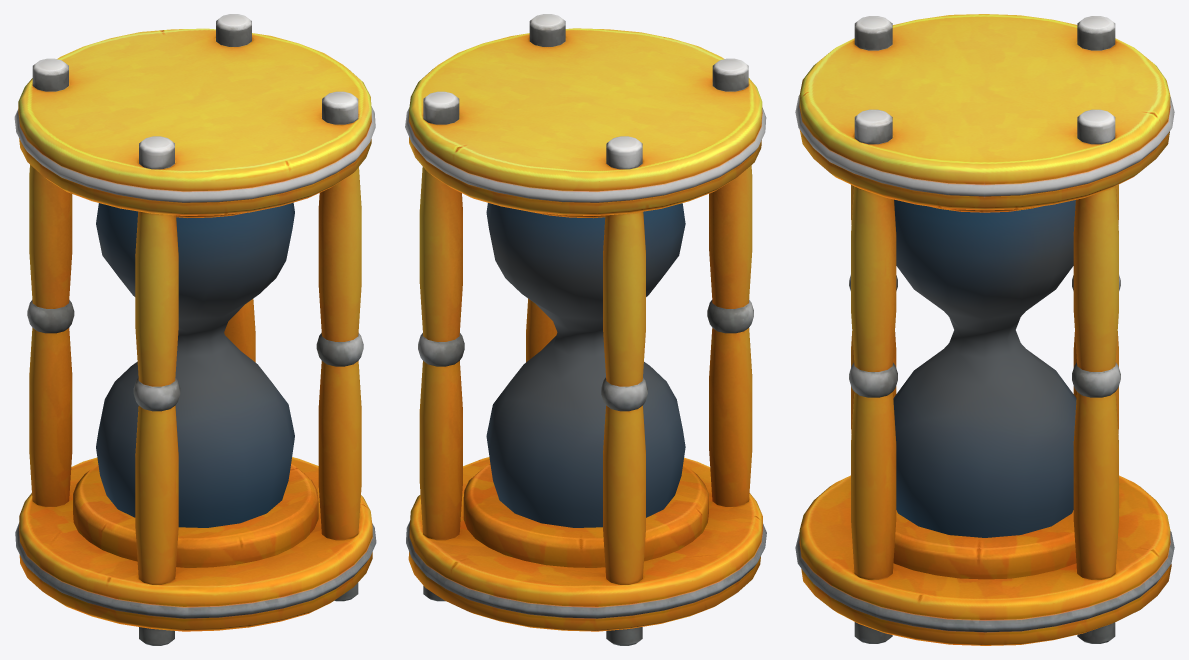
Rendered from SM_Hourglass.fbx.
3 renders of one model, left to right at view 1: azimuth 30°, elevation 25°; view 2: azimuth 150°, elevation 25°; view 3: azimuth 270°, elevation 25°, orthographic. The views are drawn at different scales.
Parts seen in each view (by area): view 1: SM_Hourglass_LOD0; view 2: SM_Hourglass_LOD0; view 3: SM_Hourglass_LOD0.
Boxes of the visible parts, x1,y1,x2,y2 form: SM_Hourglass_LOD0: (14,14,376,645); SM_Hourglass_LOD0: (405,14,766,645); SM_Hourglass_LOD0: (795,14,1174,645).
Bounding box in the file's own units: 22.82 × 22.82 × 34.6.
2 materials, 2 textured.
